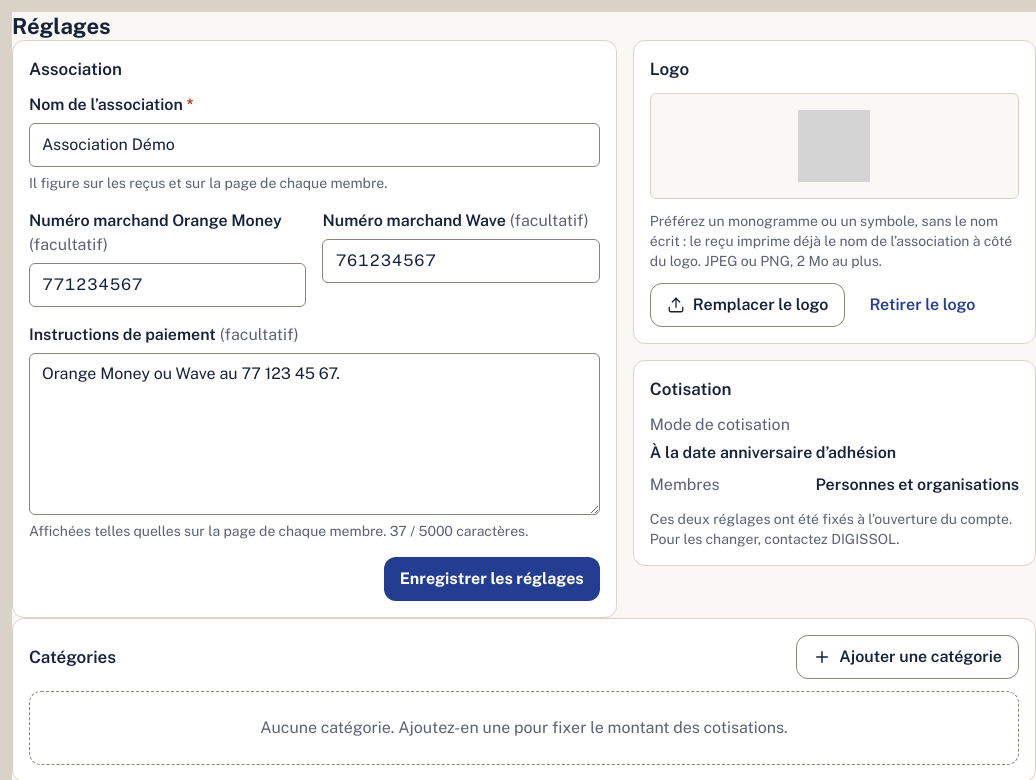
Scenario: B11 — l’association › enregistre les instructions, et elles seules parmi les champs modifiables
Replace the text in the text box labelled "Instructions de paiement (facultatif)" with "Nouveau texte": (314, 434) [29,353,600,515]
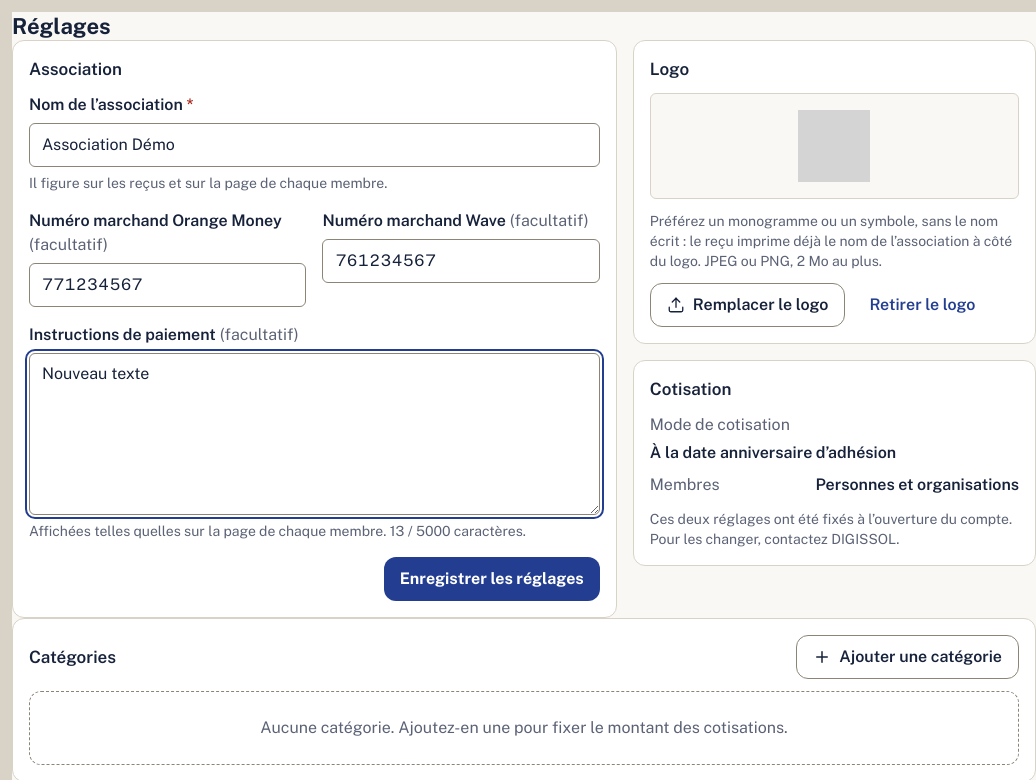
Click the button "Enregistrer les réglages": click(492, 579) [384,557,600,601]
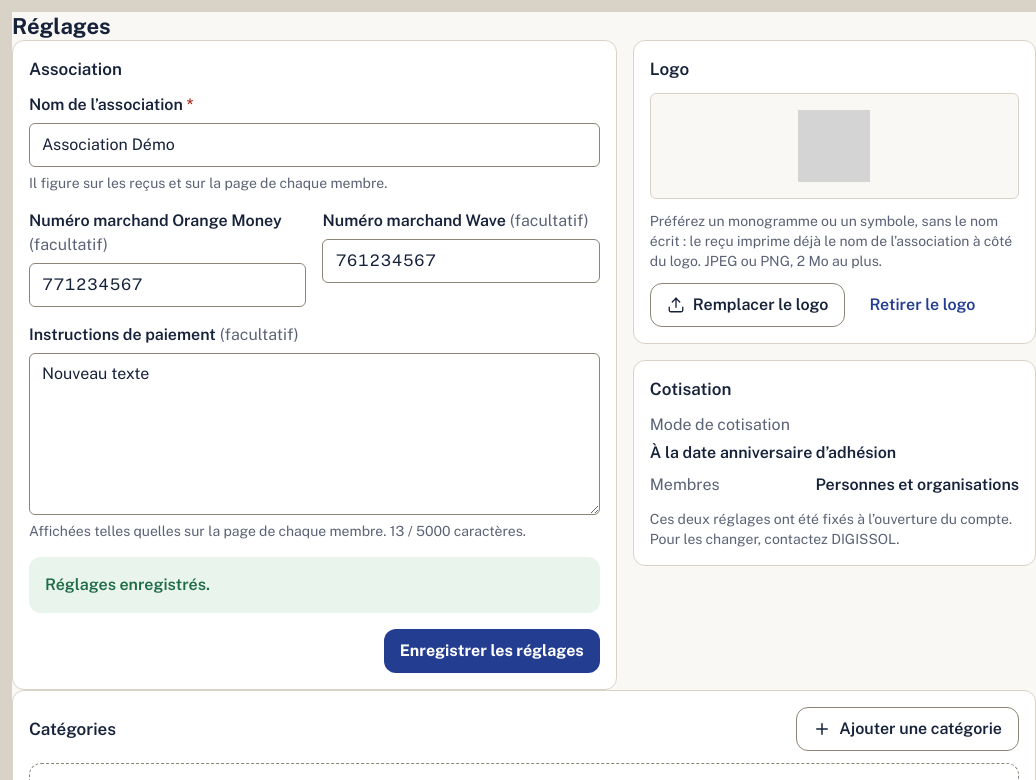
Check: the text "Réglages enregistrés." is shown, box [29,557,600,613]
